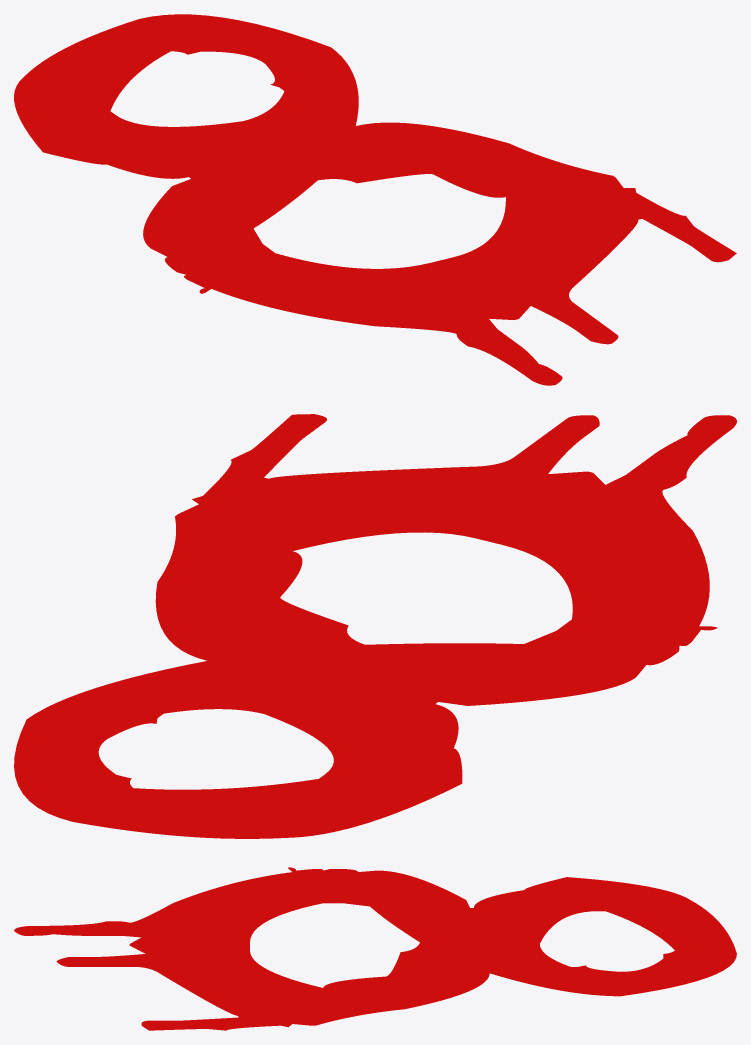
The picture shows the model from 3 angles, top to bottom: view 1: azimuth 30°, elevation 25°; view 2: azimuth 150°, elevation 25°; view 3: azimuth 270°, elevation 25°; orthographic projection. The views are drawn at different scales.
Visible parts, largest first — view 1: Text; view 2: Text; view 3: Text.
Part boxes in pixels (<box>): Text: <box>14,14,736,385</box>; Text: <box>14,414,736,838</box>; Text: <box>14,867,736,1030</box>.
Bounding box in the file's own units: 19.66 × 5.99e-06 × 36.76.
